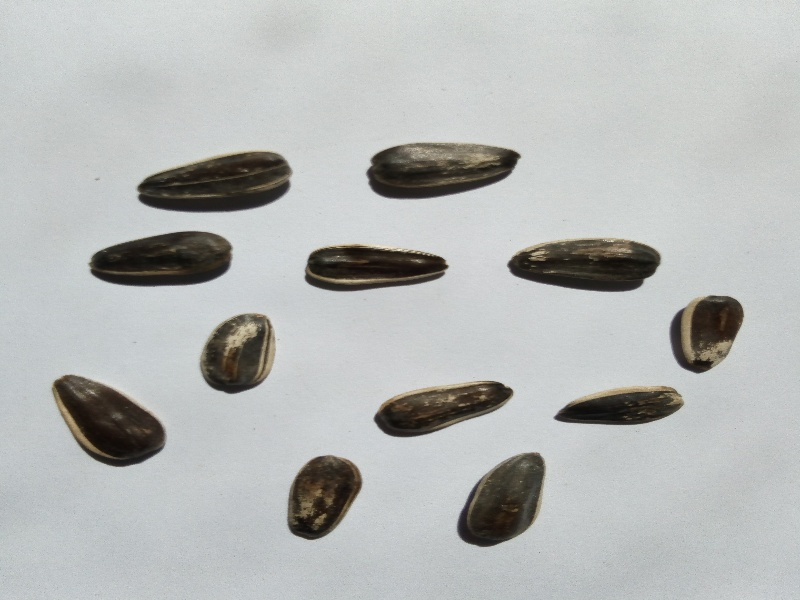girasol: (42, 372, 173, 473), (360, 132, 525, 203), (449, 446, 557, 551), (500, 229, 666, 296), (369, 374, 521, 443), (132, 146, 290, 212), (82, 226, 237, 293), (297, 237, 454, 302), (659, 280, 754, 381), (281, 450, 368, 548), (197, 309, 284, 403), (551, 379, 688, 437)
